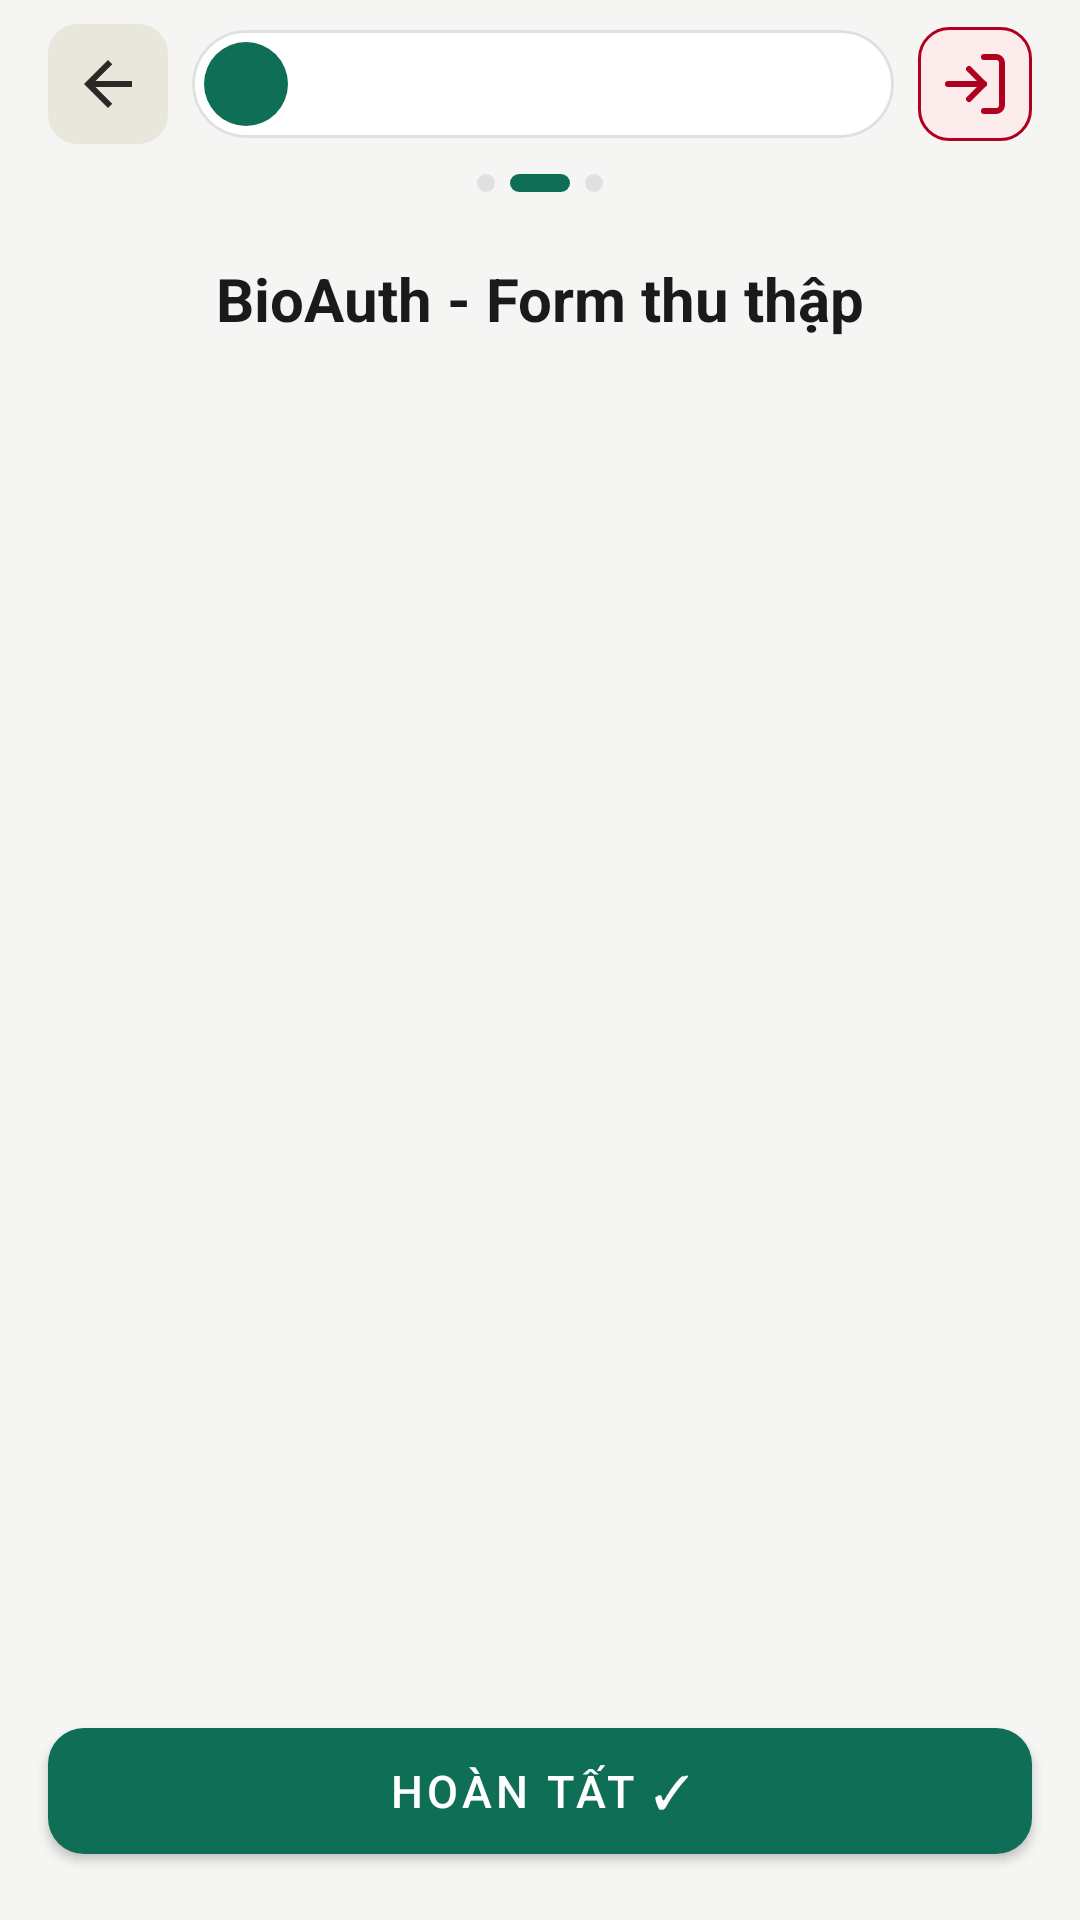

Icons on this 1080px×1920px Android screen, each with the point to tap as (x=x, y=y):
Quay lại: (x=108, y=84)
